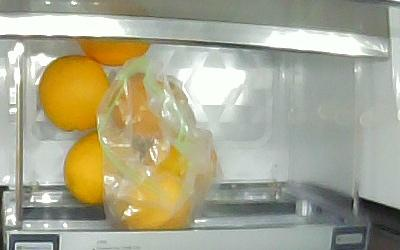orange: (39, 55, 109, 132), (79, 39, 150, 66)
orange_vinyl: (113, 167, 191, 229), (64, 133, 130, 204), (110, 73, 182, 138), (144, 140, 217, 192)
